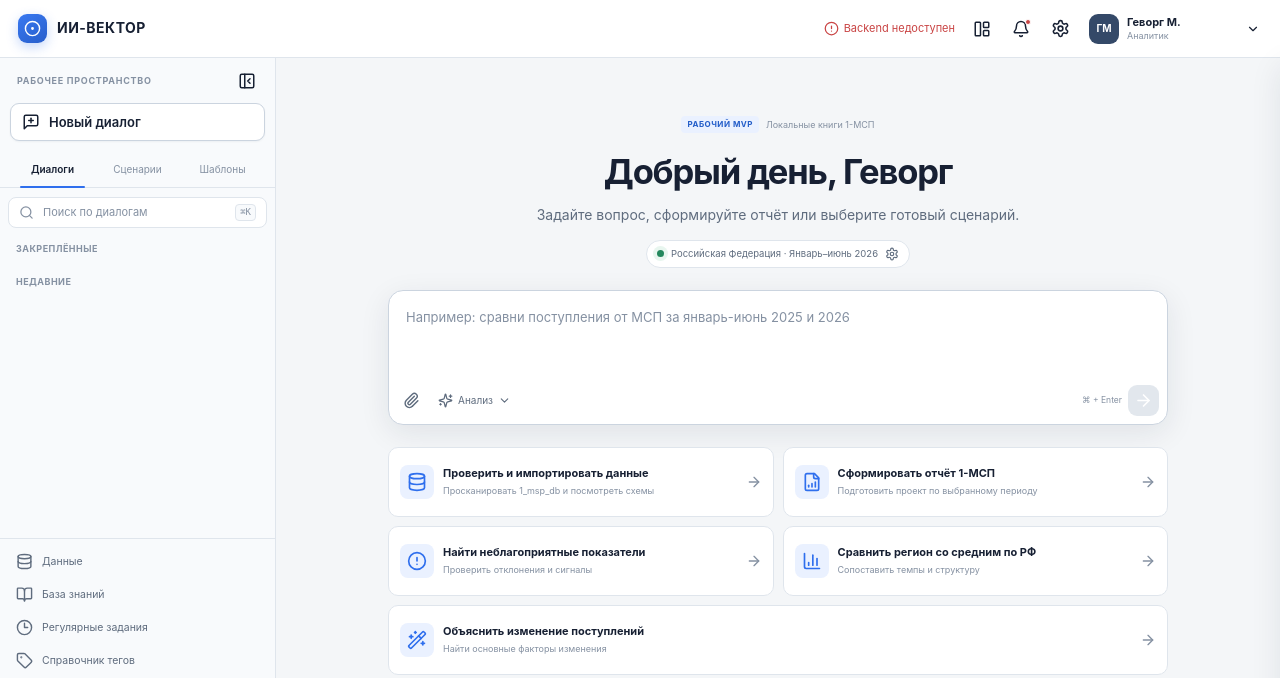
Test: ИИ-ВЕКТОР › routes the chat supercommand 'Сформируй отчёт по стране' to a prefilled generator
The image size is (1280, 678).
Step 1. Type "Сформируй отчёт по стране" into the text box named "Введите вопрос или задачу" → (778, 333), box [389, 291, 1167, 375]
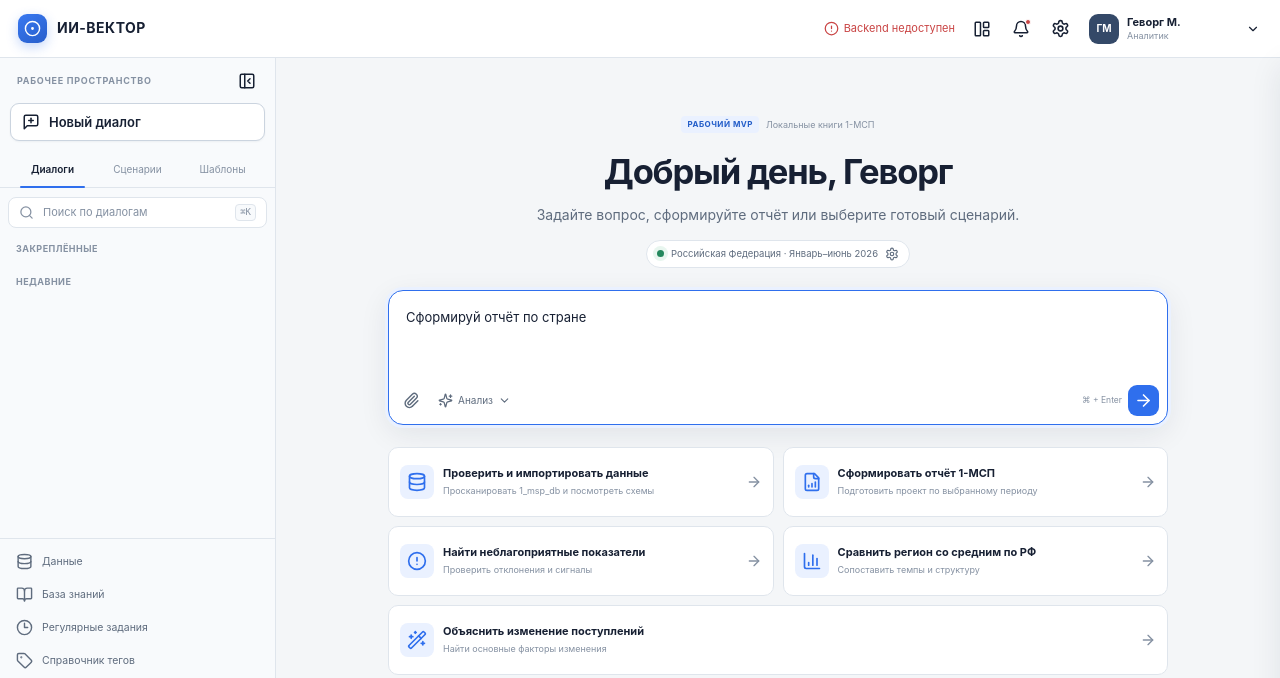
Step 2. Click the button named "Отправить запрос" → (1144, 400), box [1128, 385, 1159, 416]
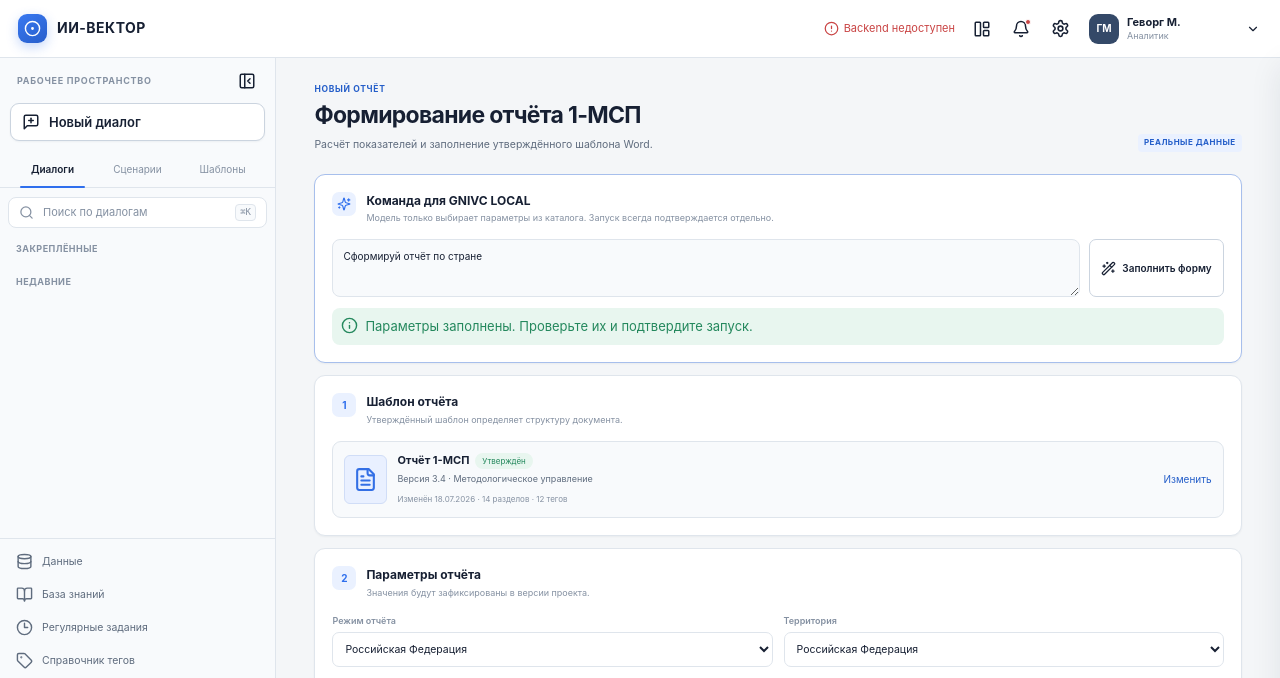
Check: the heading "Формирование отчёта 1-МСП" is shown, box [314, 99, 653, 133]
Check: the dropdown labelled "Режим отчёта" shows "Российская Федерация", box [332, 632, 772, 667]
Check: the text "Параметры заполнены. Проверьте их и подтвердите запуск." is shown, box [365, 317, 753, 336]
